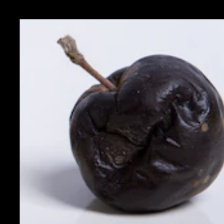apple: (22, 38, 180, 204)
